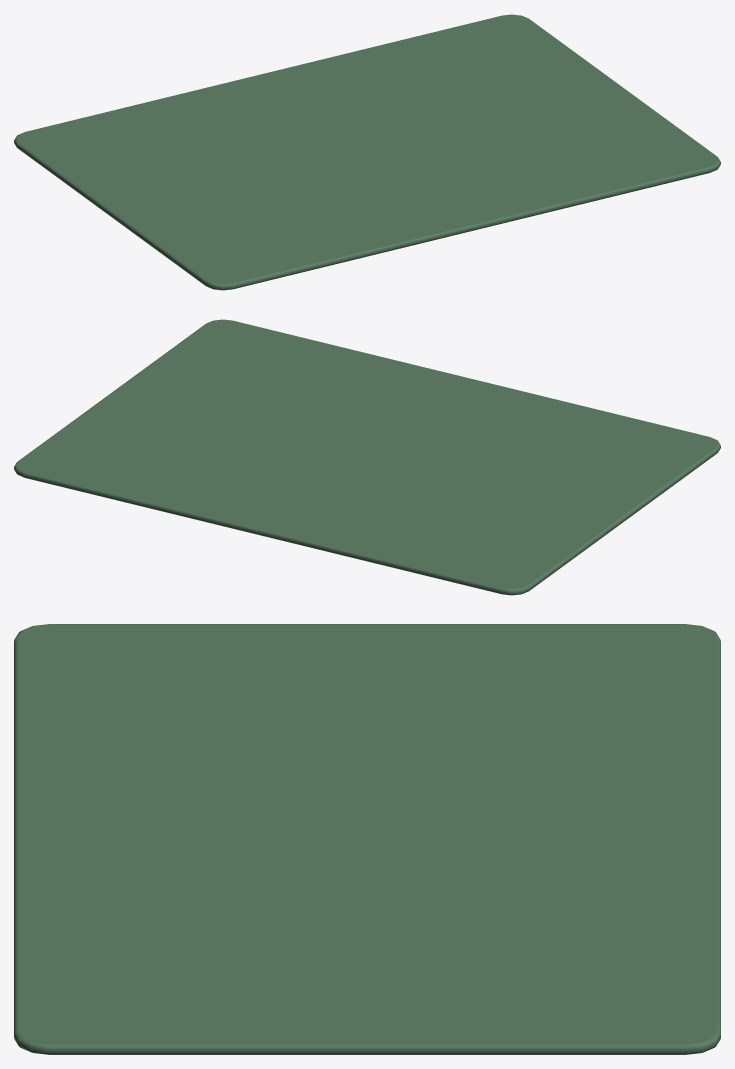
File: t200_mounts.obj
3 views of the same model, one above another, from view 1: azimuth 30°, elevation 25°; view 2: azimuth 150°, elevation 25°; view 3: azimuth 270°, elevation 25° (orthographic). The views are drawn at different scales.
Parts seen in each view (by area): view 1: t200_mounts; view 2: t200_mounts; view 3: t200_mounts.
Part boxes in pixels (x1,y1,x2,y2): t200_mounts: [14, 14, 720, 290]; t200_mounts: [14, 319, 720, 595]; t200_mounts: [14, 624, 720, 1054].
Size of the model in its own units: 7.2 by 0.24 by 5.08.
